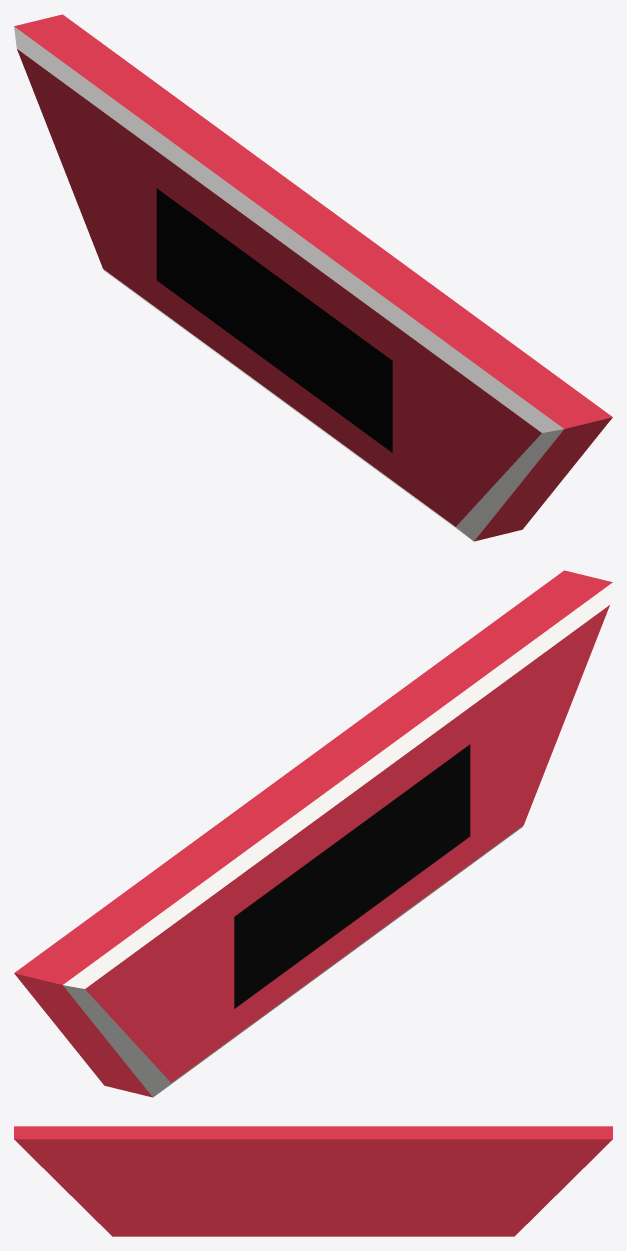
File: BackButton.fbx
3 renders of one model, top to bottom at view 1: azimuth 30°, elevation 25°; view 2: azimuth 150°, elevation 25°; view 3: azimuth 270°, elevation 25°, orthographic. The views are drawn at different scales.
Visible parts, largest first — view 1: BackButton; view 2: BackButton; view 3: BackButton.
Boxes of the visible parts, bbox=[...] form: BackButton: bbox=[14, 14, 612, 541]; BackButton: bbox=[14, 570, 612, 1097]; BackButton: bbox=[14, 1126, 612, 1236].
Bounding box in the file's own units: 0.0572 × 0.1544 × 0.8619.
